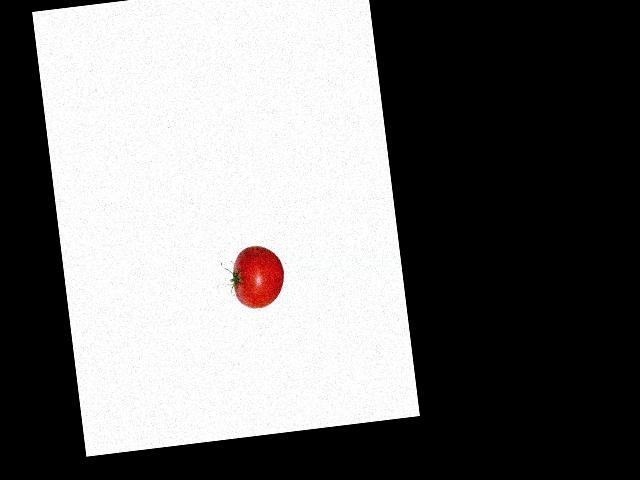tomato: (229, 243, 287, 310)
